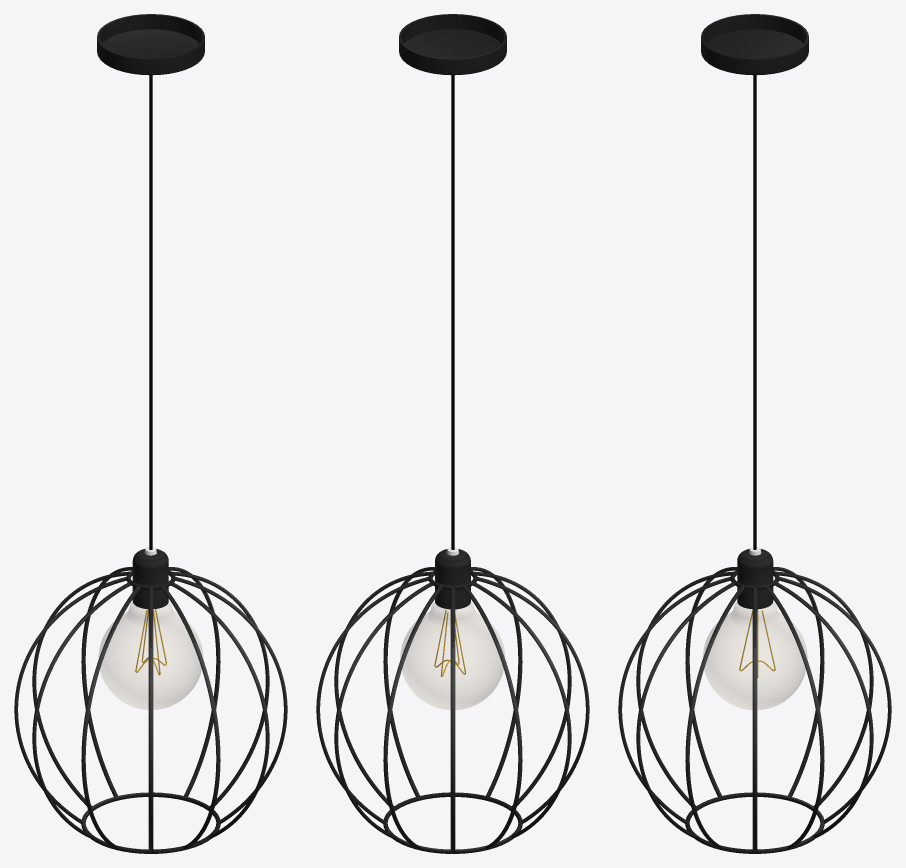
File: 001_Alpha-Light.glb
3 renders of one model, left to right at view 1: azimuth 30°, elevation 25°; view 2: azimuth 150°, elevation 25°; view 3: azimuth 270°, elevation 25°, orthographic.
Parts seen in each view (by area): view 1: root; view 2: root; view 3: root.
Part boxes in pixels (box(x1,y1,x2,y2)): root: box(14, 14, 287, 853); root: box(316, 14, 589, 853); root: box(618, 14, 891, 853).
Size of the model in its own units: 0.3032 by 0.9657 by 0.3032.
Materials: 8 (3 with a texture image).
